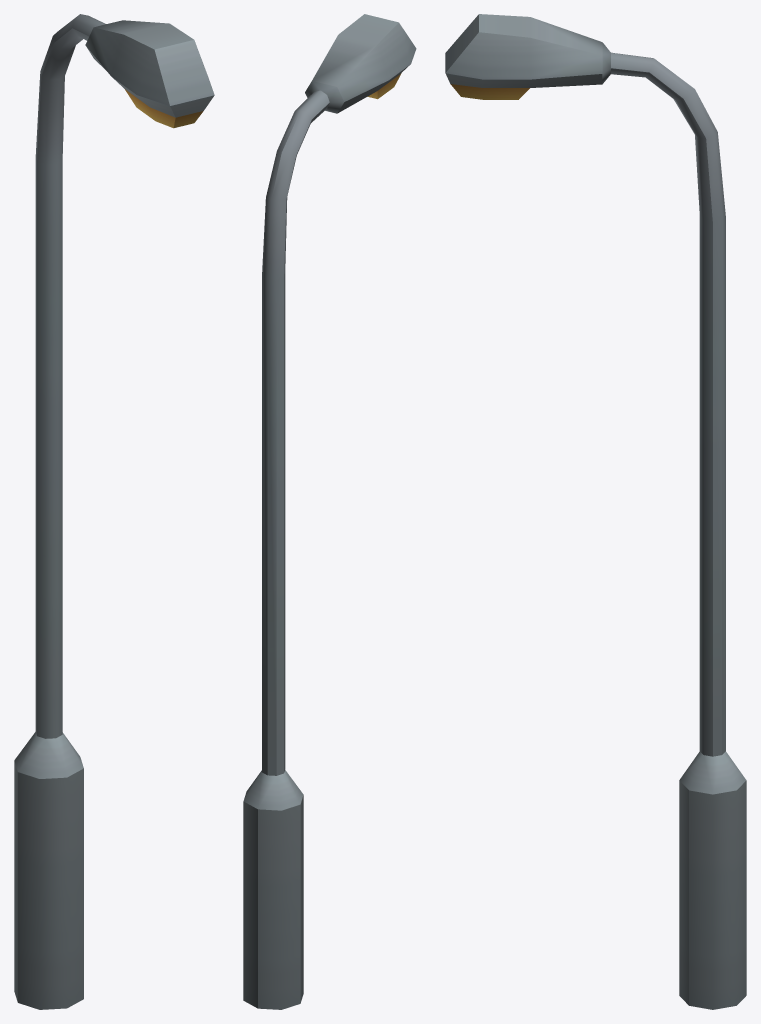
Rendered from farol.glb.
The picture shows the model from 3 angles, left to right: view 1: azimuth 30°, elevation 25°; view 2: azimuth 150°, elevation 25°; view 3: azimuth 270°, elevation 25°; orthographic projection. The views are drawn at different scales.
Parts seen in each view (by area): view 1: streetlight; view 2: streetlight; view 3: streetlight.
Boxes of the visible parts, x1,y1,x2,y2 form: streetlight: [14, 14, 214, 1009]; streetlight: [243, 14, 416, 1009]; streetlight: [445, 14, 746, 1009].
Size of the model in its own units: 0.3236 by 4.5 by 1.26.
1 material, 1 textured.
